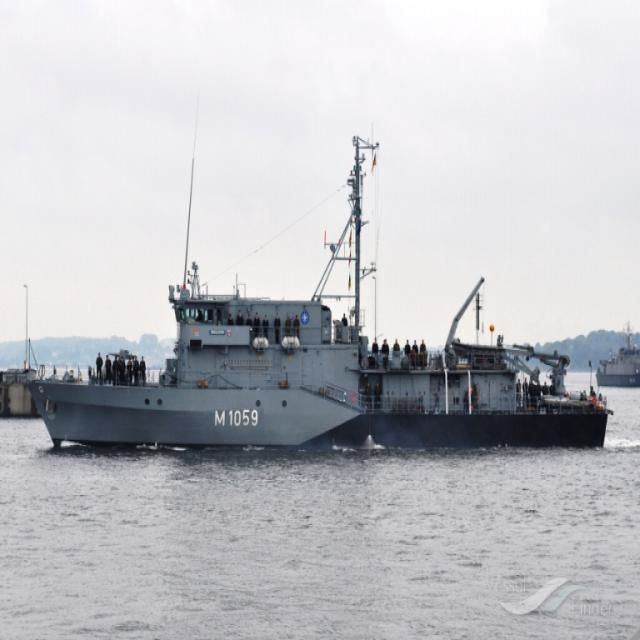OCR: (206, 408, 264, 442)
